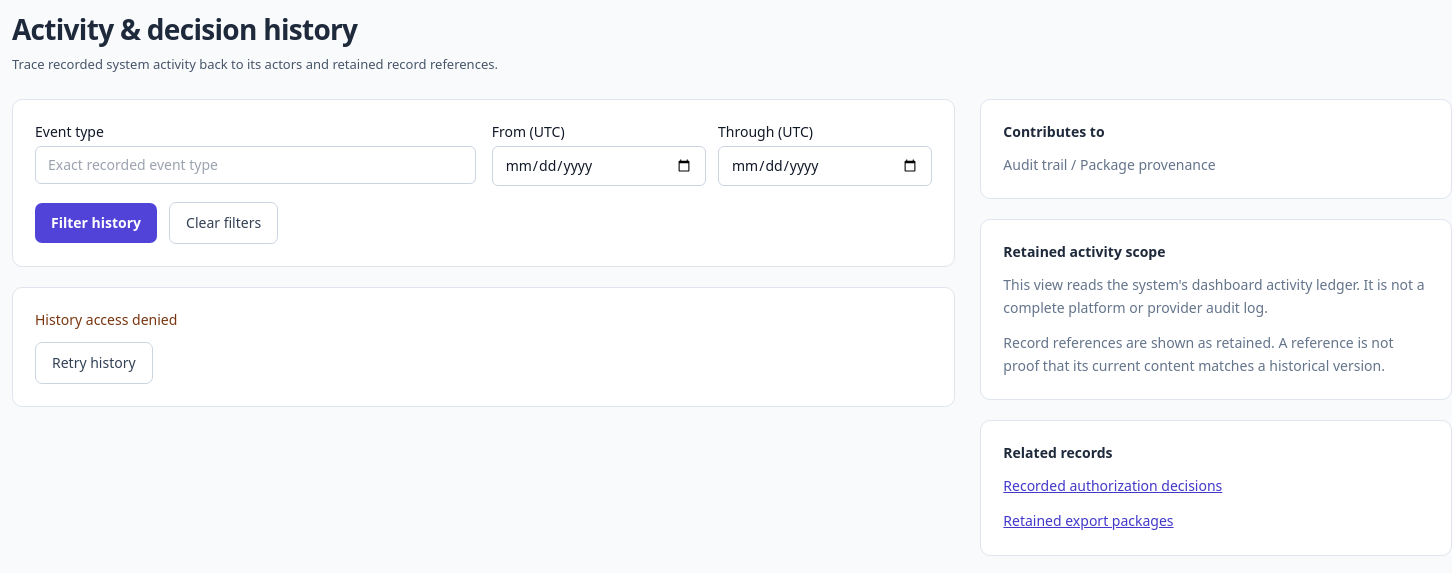
Test: System activity history › offers retry instead of false empty history when the endpoint denies access
The image size is (1452, 573).
Expected: the message reads "History access denied", x1=35 y1=310 x2=177 y2=328
Click the button "Retry history": (94, 362) x1=35 y1=342 x2=153 y2=384
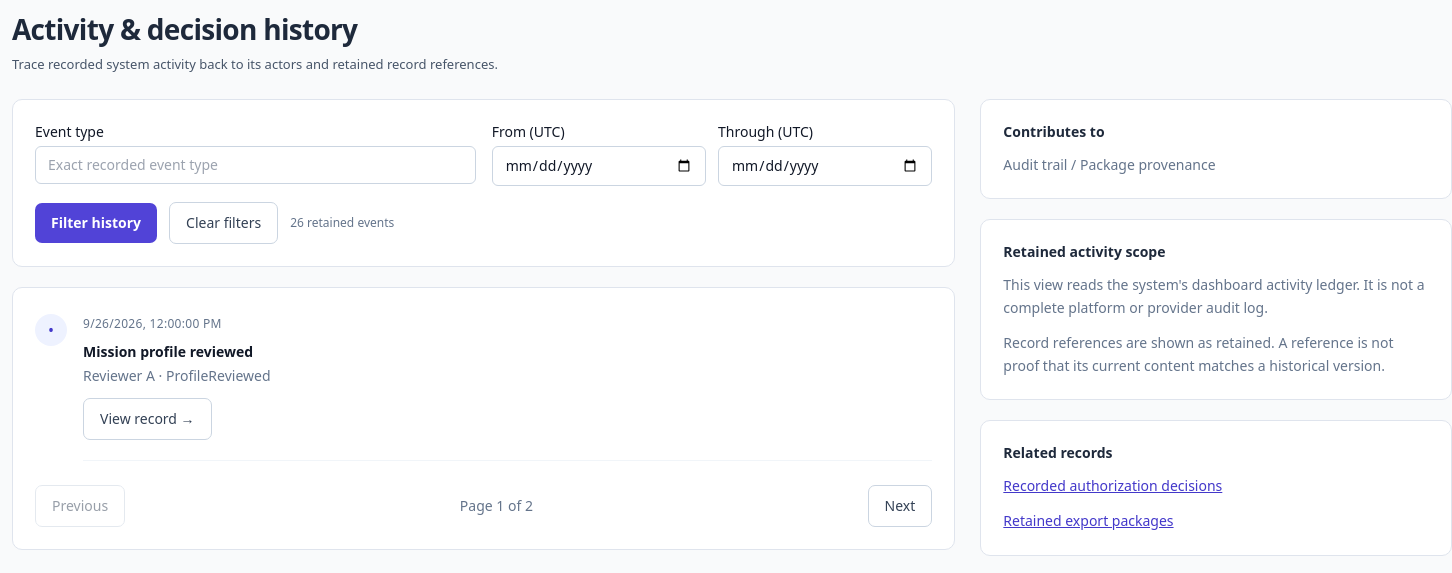
Expected: the heading "Mission profile reviewed" is shown, x1=83 y1=342 x2=253 y2=360
